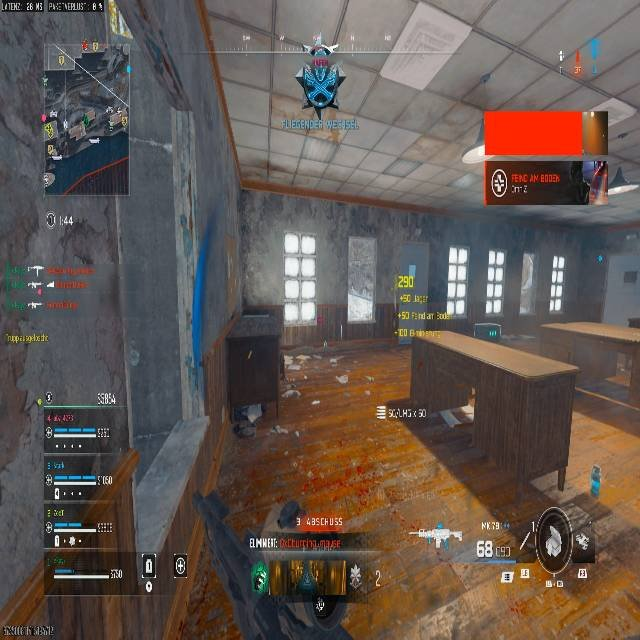head: (310, 45, 331, 58)
player: (294, 45, 344, 120)
